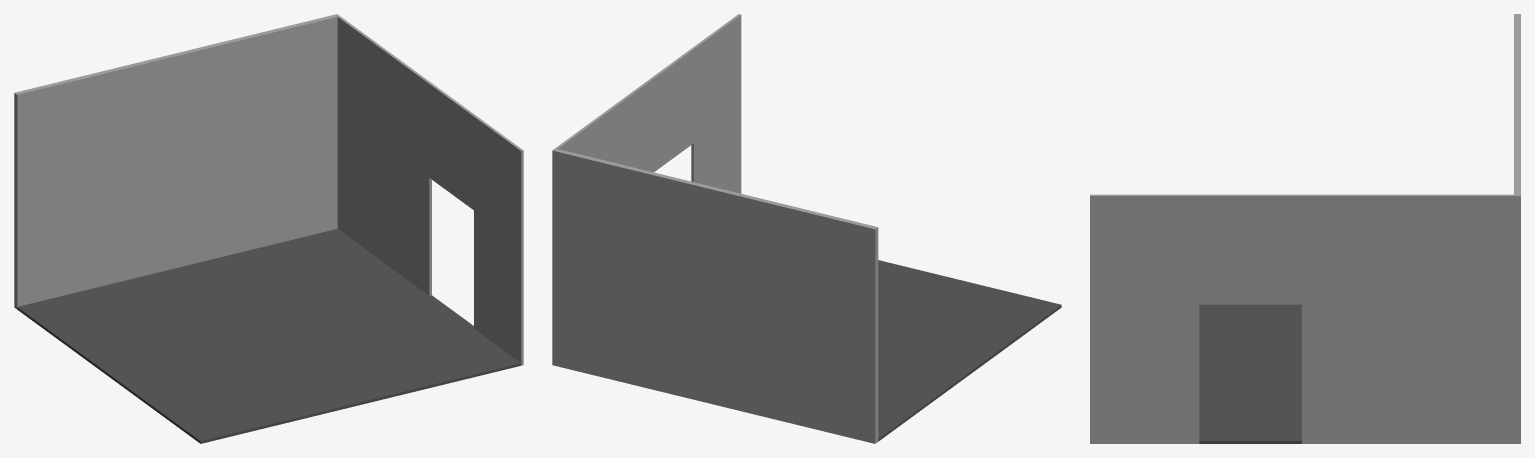
Rendered from 4x2 second-4.obj.
3 views of the same model, side by side, from view 1: azimuth 30°, elevation 25°; view 2: azimuth 150°, elevation 25°; view 3: azimuth 270°, elevation 25° (orthographic). The views are drawn at different scales.
Visible parts, largest first — view 1: 4x2 second-4; view 2: 4x2 second-4; view 3: 4x2 second-4.
Boxes of the visible parts, x1,y1,x2,y2 form: 4x2 second-4: (14, 14, 523, 443); 4x2 second-4: (552, 14, 1061, 443); 4x2 second-4: (1090, 14, 1520, 443).
Size of the model in its own units: 126 by 80 by 126.
1 material, 1 textured.
